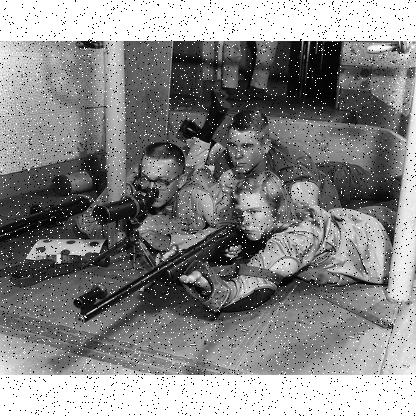gun: (74, 207, 256, 322)
